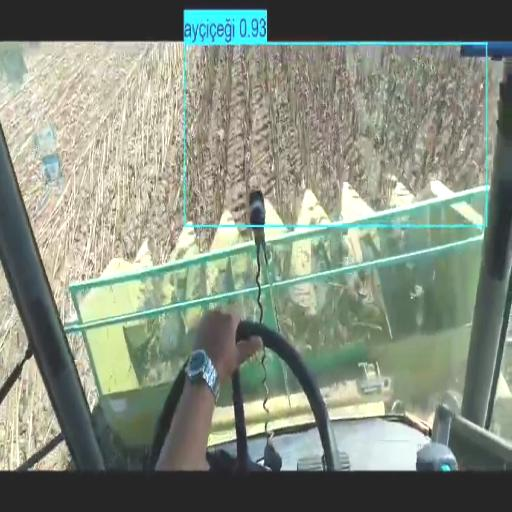ayc: (184, 45, 484, 222)
